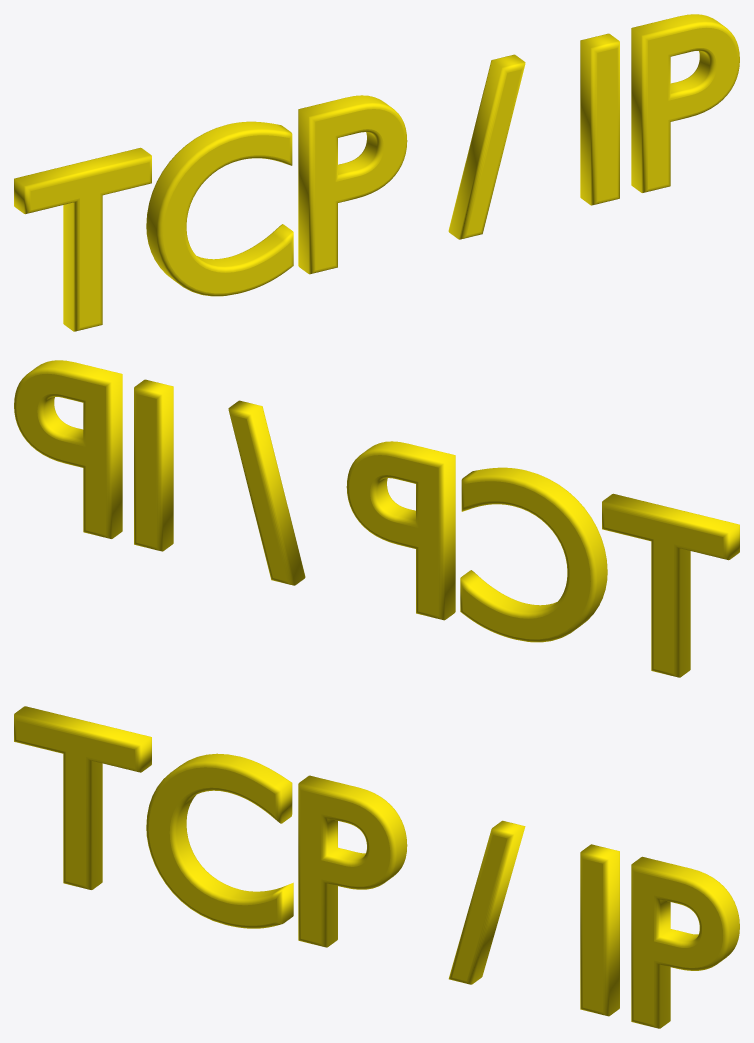
3 renders of one model, top to bottom at view 1: azimuth 30°, elevation 25°; view 2: azimuth 150°, elevation 25°; view 3: azimuth 330°, elevation 25°, orthographic.
Visible parts, largest first — view 1: Text.003; view 2: Text.003; view 3: Text.003.
Part boxes in pixels (x1,y1,x2,y2): Text.003: (14,14,739,331); Text.003: (14,360,739,677); Text.003: (14,706,739,1028).
Size of the model in its own units: 0.4484 by 0.0967 by 0.0157.
